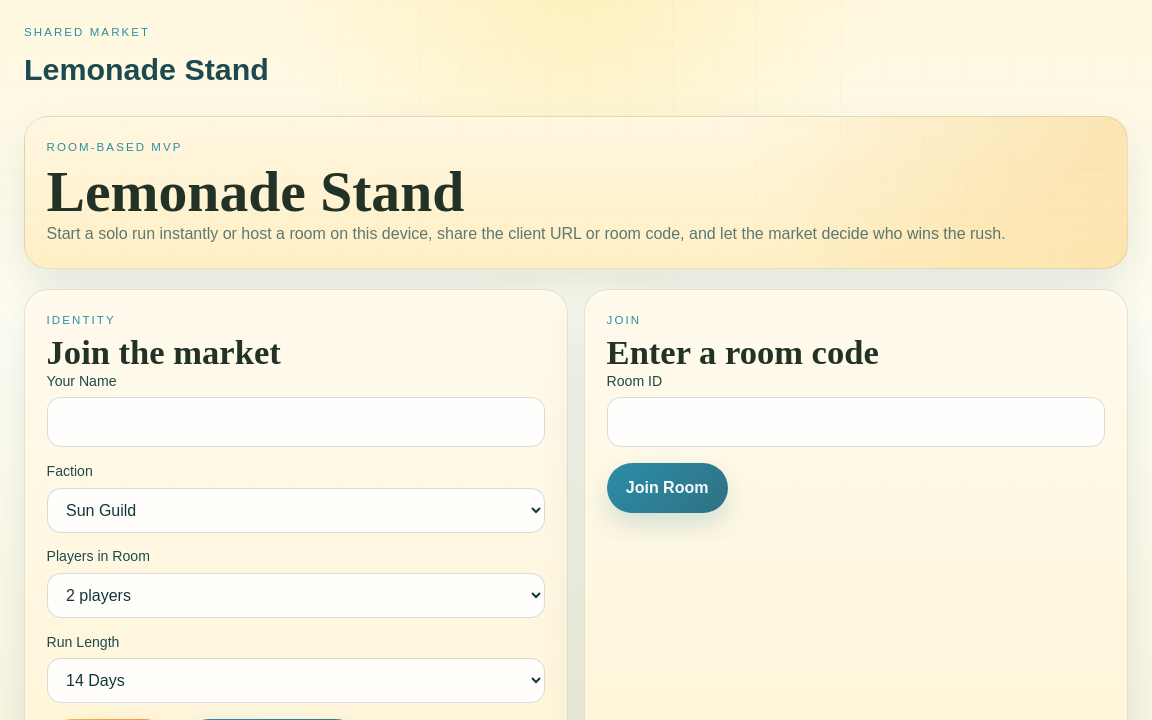
Test: App › shows the joined roster and open seats for a four-player waiting room
Type "Alex" into the field labelled "Your Name". click: (296, 422)
box: [47,397,545,447]
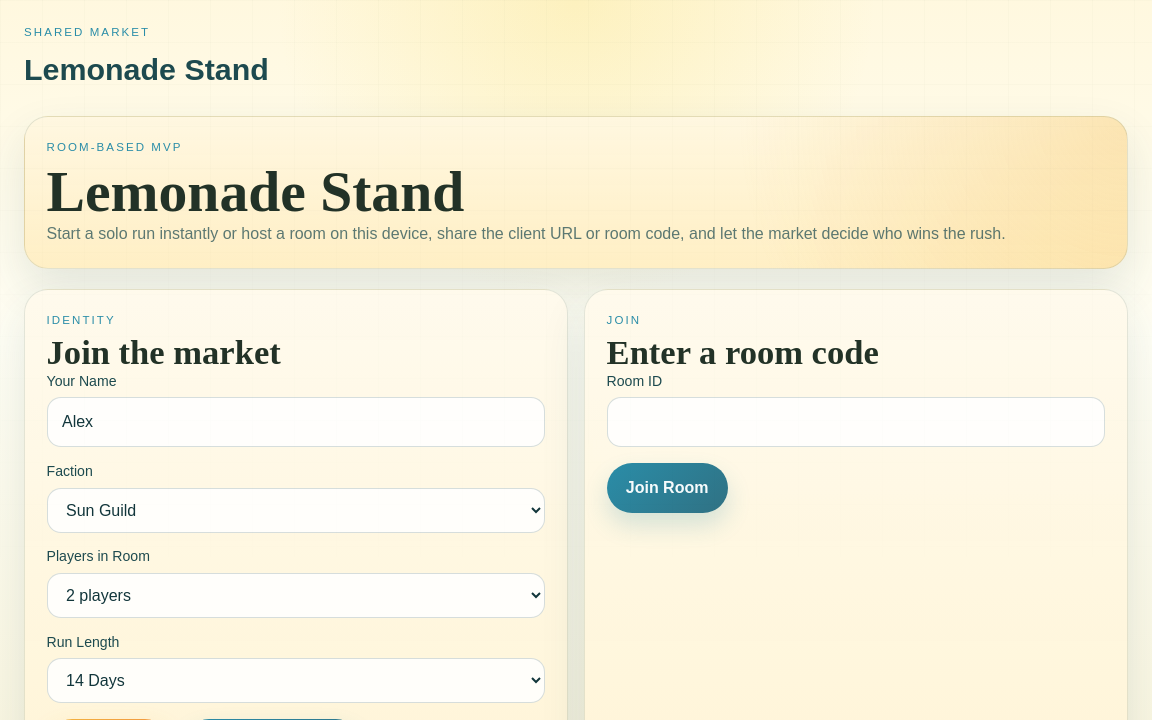
Select "4 players" in the dropdown labelled "Players in Room". click: (296, 596)
box: [47,573,545,618]
(page scrolled)
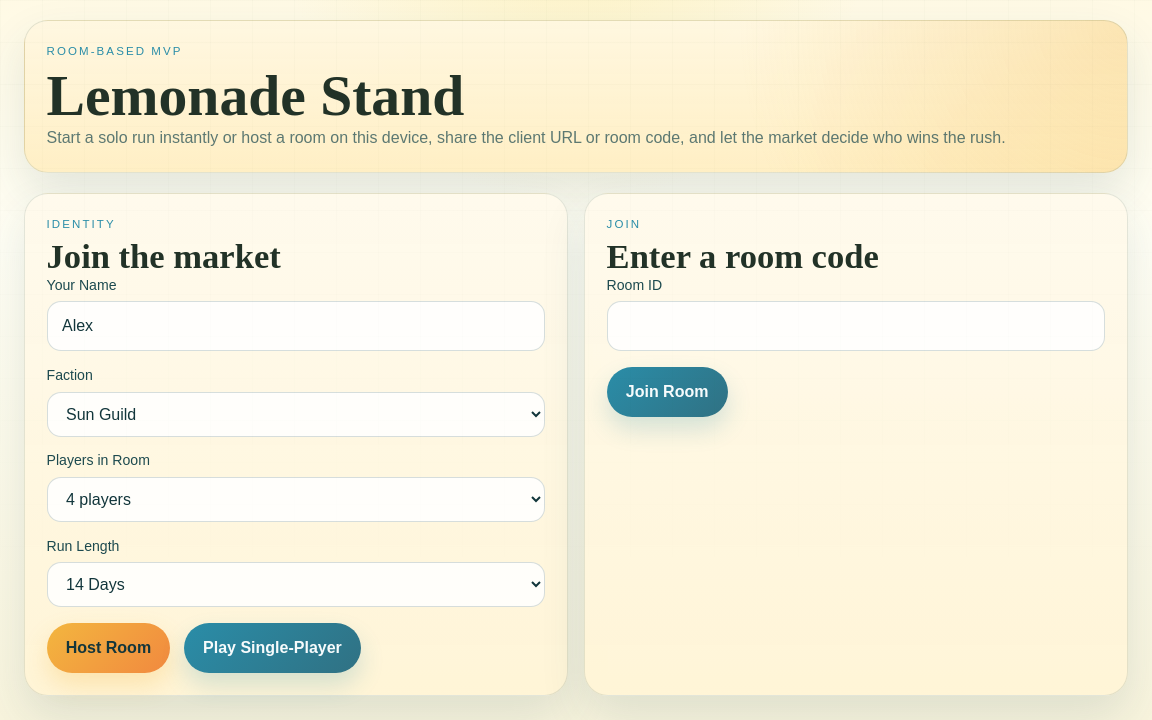
Click the button "Host Room". click: (108, 648)
box: [47,623,170,673]
(page scrolled)
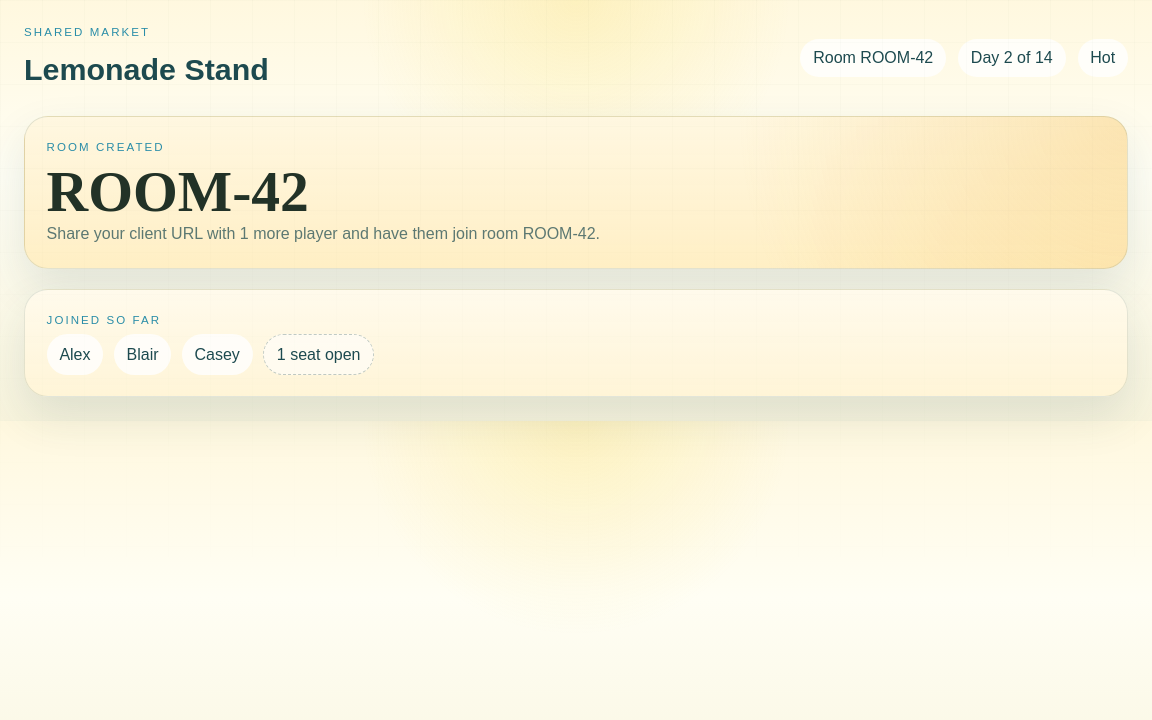
Result: the text "1 seat open" is shown at [263,334,374,375]
Result: the text "Alex" is shown at [47,334,103,375]
Result: the text "Blair" is shown at [114,334,171,375]
